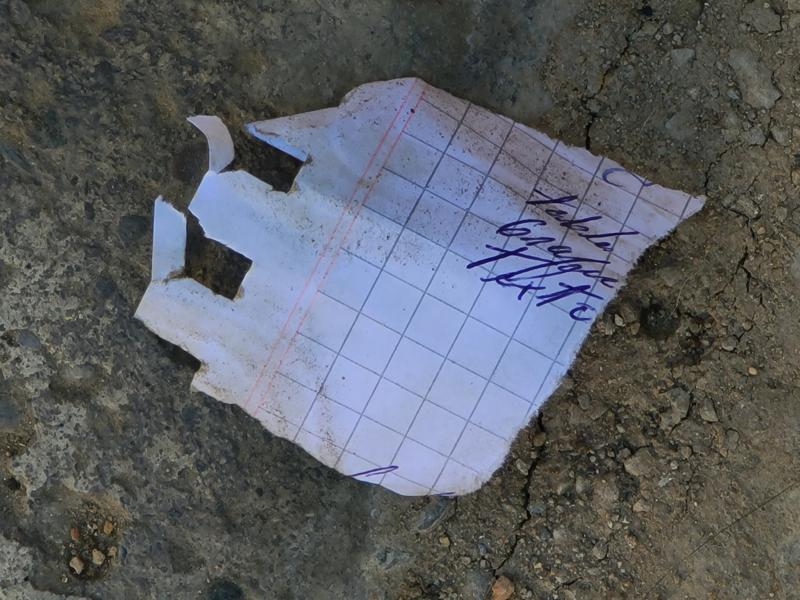papel: (134, 78, 705, 499)
